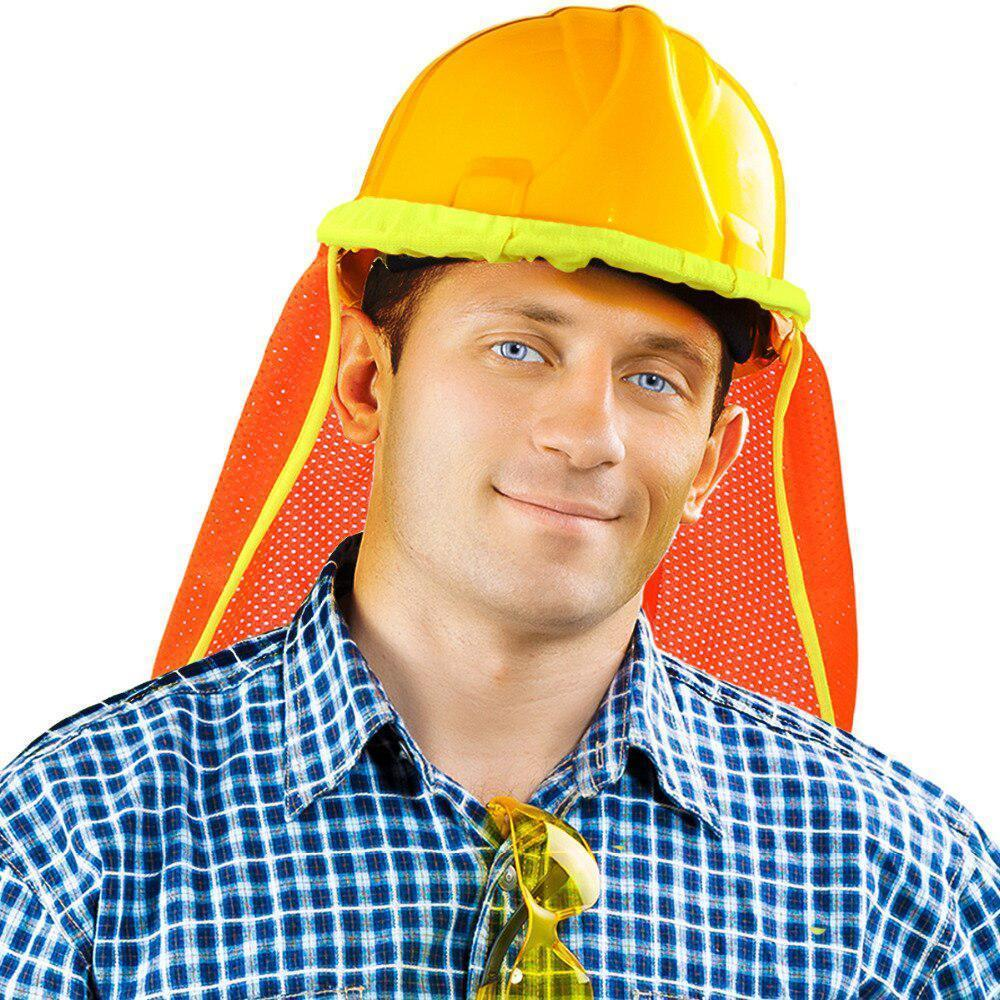helmet: (322, 5, 809, 328)
